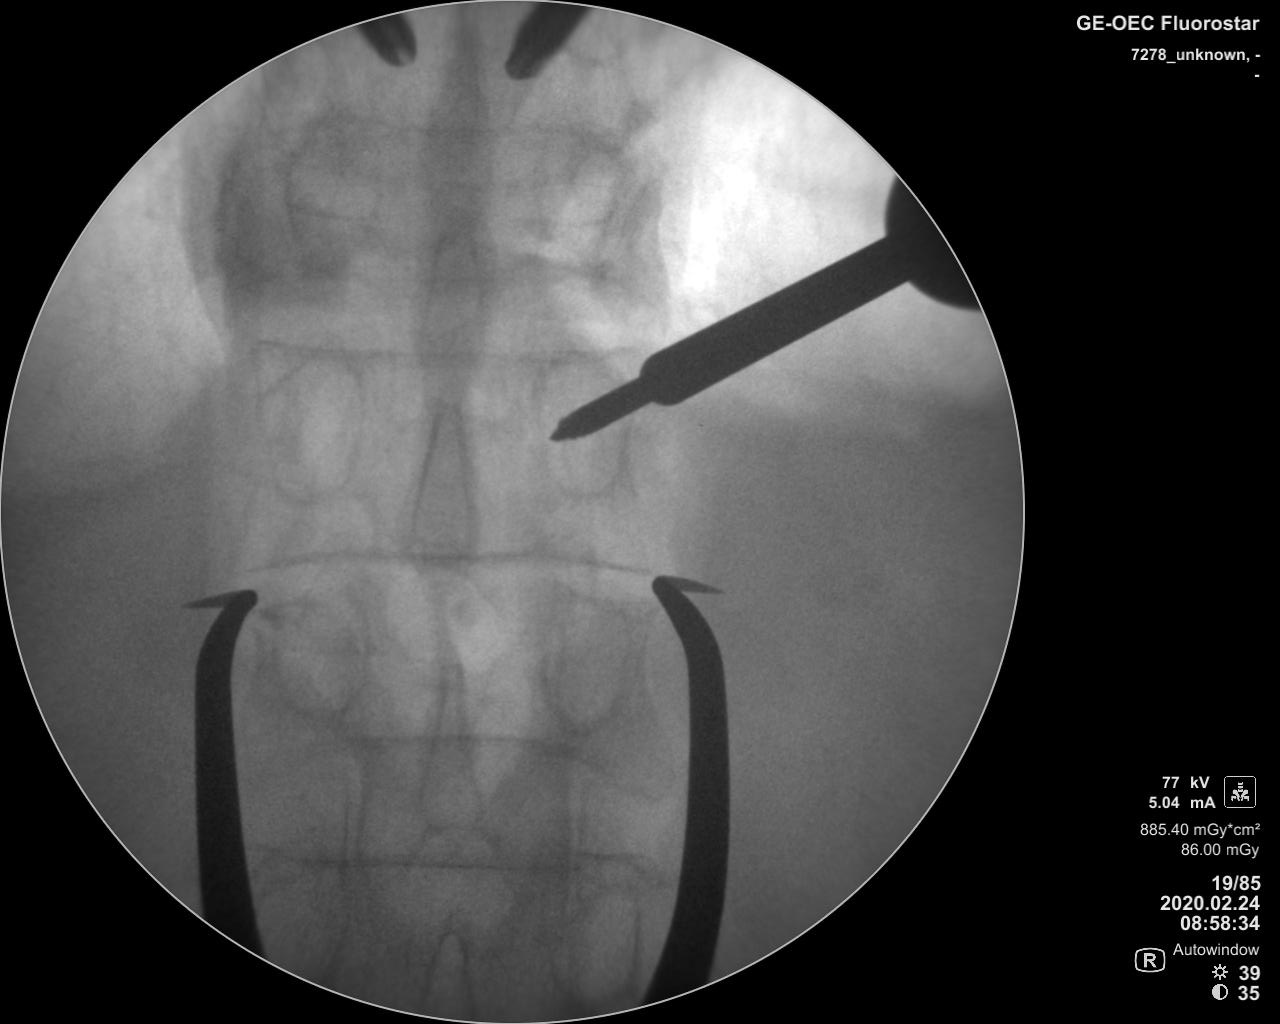eyes: (250, 354, 368, 505), (283, 118, 382, 274), (535, 578, 628, 735), (267, 583, 370, 724), (535, 350, 628, 501), (551, 879, 634, 1004), (557, 140, 628, 247)
line: (230, 543, 649, 578), (264, 841, 580, 884), (247, 334, 637, 364), (288, 727, 574, 765)
nose: (420, 17, 496, 217), (410, 661, 486, 838), (408, 397, 482, 577), (416, 219, 486, 387)
